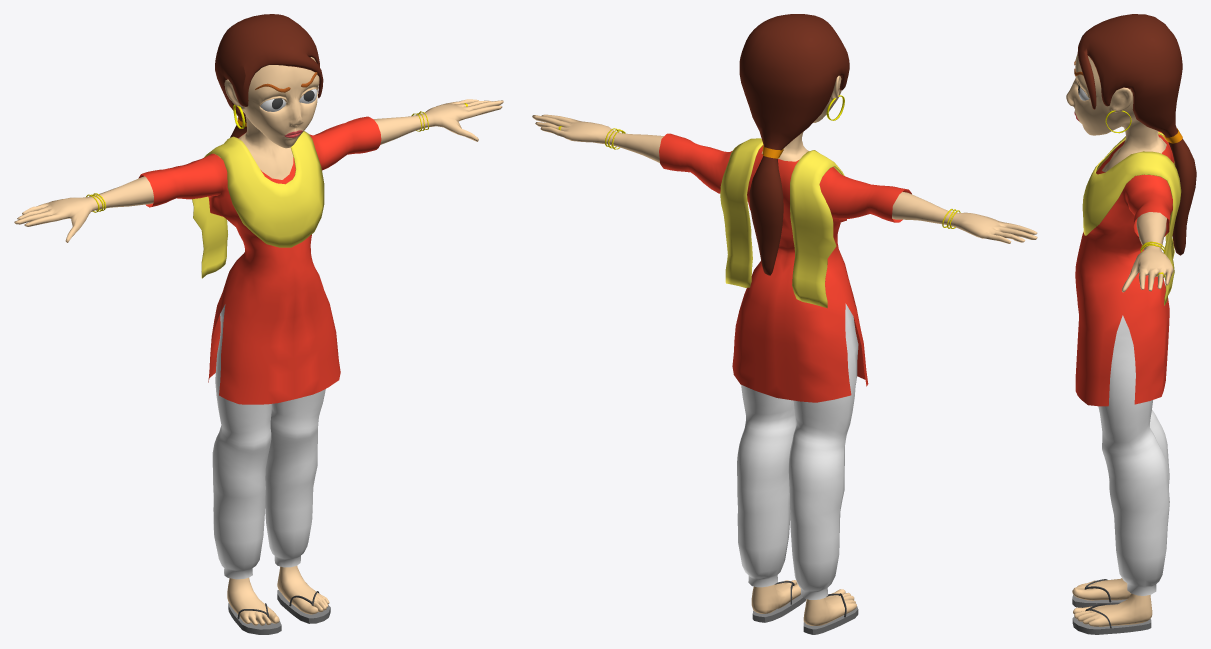
File: Ami_Rigged_Textured.fbx
3 renders of one model, left to right at view 1: azimuth 30°, elevation 25°; view 2: azimuth 150°, elevation 25°; view 3: azimuth 270°, elevation 25°, orthographic. The views are drawn at different scales.
Visible parts, largest first — view 1: chic cartoon girl 11233 11233 some human women teen female.0, Plane.005; view 2: chic cartoon girl 11233 11233 some human women teen female.0, Plane.005; view 3: chic cartoon girl 11233 11233 some human women teen female.0, Plane.005.
Part boxes in pixels (bbox=[...]): chic cartoon girl 11233 11233 some human women teen female.0: bbox=[14, 14, 503, 625]; Plane.005: bbox=[228, 590, 330, 634]; chic cartoon girl 11233 11233 some human women teen female.0: bbox=[532, 14, 1037, 625]; Plane.005: bbox=[752, 581, 858, 634]; chic cartoon girl 11233 11233 some human women teen female.0: bbox=[1066, 14, 1196, 626]; Plane.005: bbox=[1072, 579, 1151, 634].
Size of the model in its own units: 266 by 304 by 60.62.
